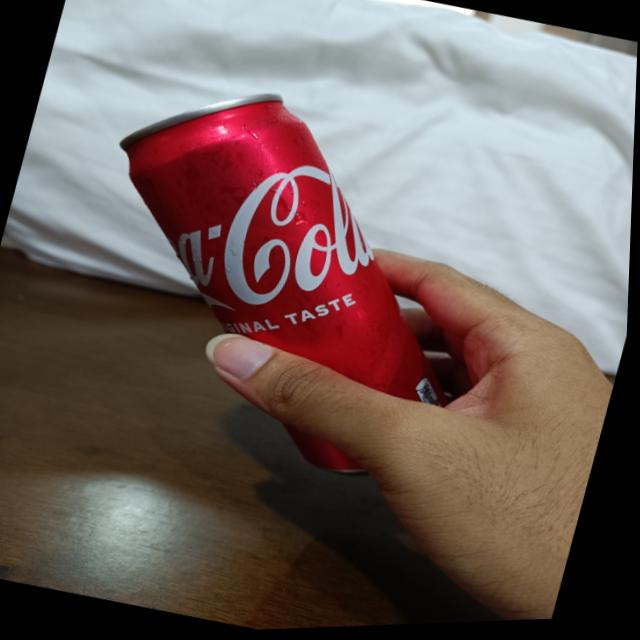coke: (49, 55, 520, 498)
